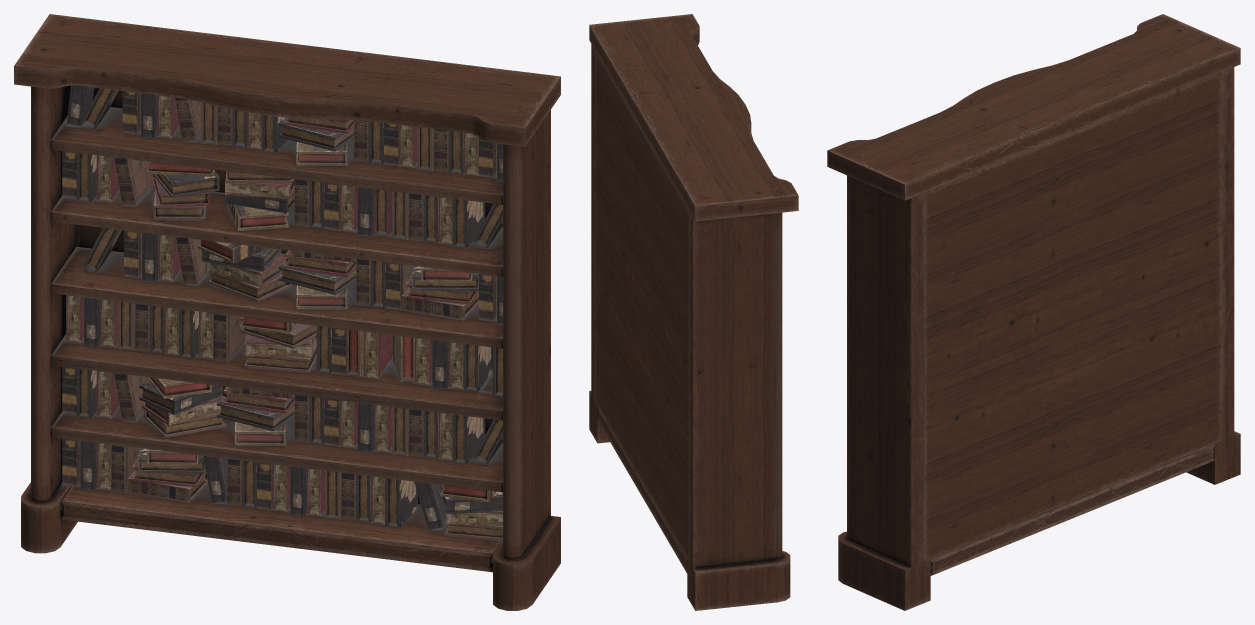
Rendered from bookshelf.glb.
The picture shows the model from 3 angles, left to right: view 1: azimuth 30°, elevation 25°; view 2: azimuth 150°, elevation 25°; view 3: azimuth 270°, elevation 25°; orthographic projection. The views are drawn at different scales.
Visible parts, largest first — view 1: Cylinder005, Object001_books_0; view 2: Cylinder005; view 3: Cylinder005.
Part boxes in pixels (bbox=[...]): Cylinder005: bbox=[14, 14, 560, 610]; Object001_books_0: bbox=[62, 85, 502, 540]; Cylinder005: bbox=[589, 14, 798, 610]; Cylinder005: bbox=[827, 14, 1240, 610].
Bounding box in the file's own units: 2.17 × 2.53 × 2.22.
2 materials, 2 textured.
